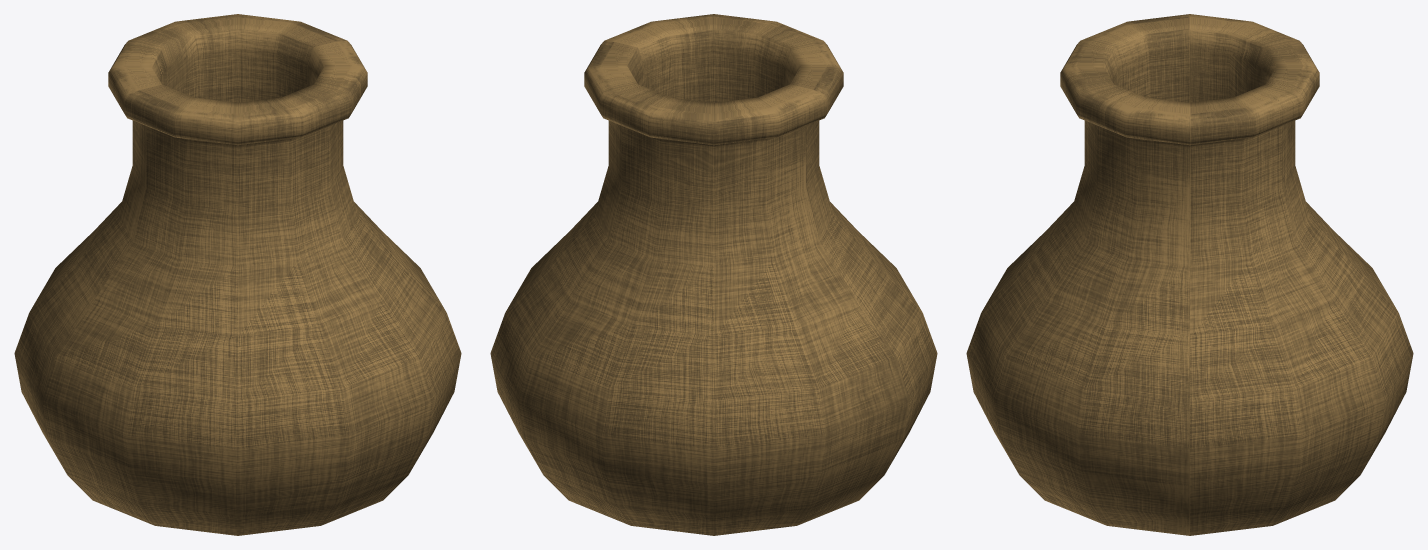
File: vase3.fbx
The picture shows the model from 3 angles, left to right: view 1: azimuth 30°, elevation 25°; view 2: azimuth 150°, elevation 25°; view 3: azimuth 270°, elevation 25°; orthographic projection.
Visible parts, largest first — view 1: Vase; view 2: Vase; view 3: Vase.
Part boxes in pixels (box(x1,y1,x2,y2)): Vase: box(14, 14, 461, 535); Vase: box(490, 14, 937, 535); Vase: box(966, 14, 1413, 535).
Size of the model in its own units: 0.2074 by 0.2076 by 0.2052.
